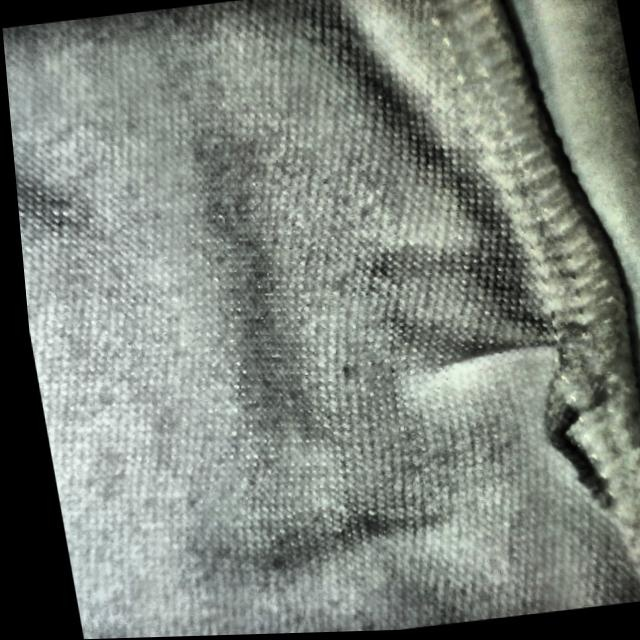seam: (438, 279, 639, 529)
